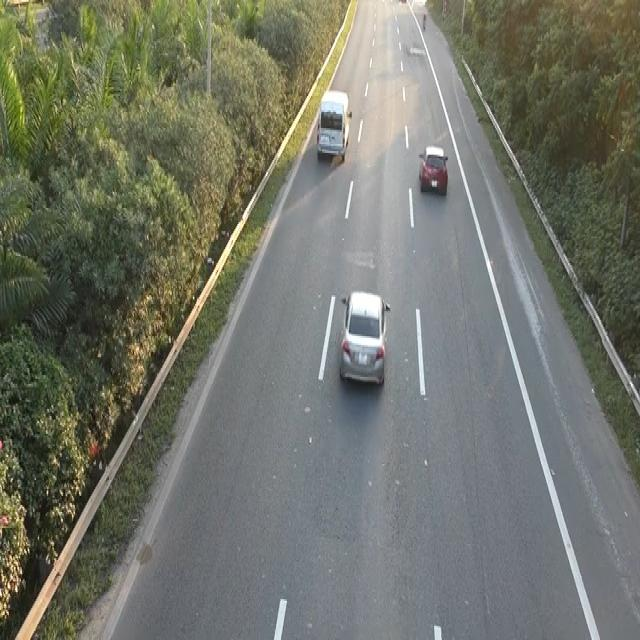bus: (336, 284, 393, 393), (417, 142, 449, 196)
jeep: (315, 87, 353, 164)
